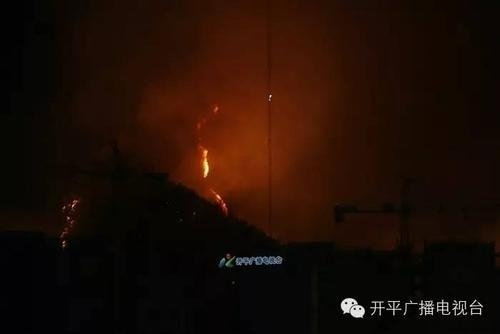fire: (194, 102, 231, 216)
